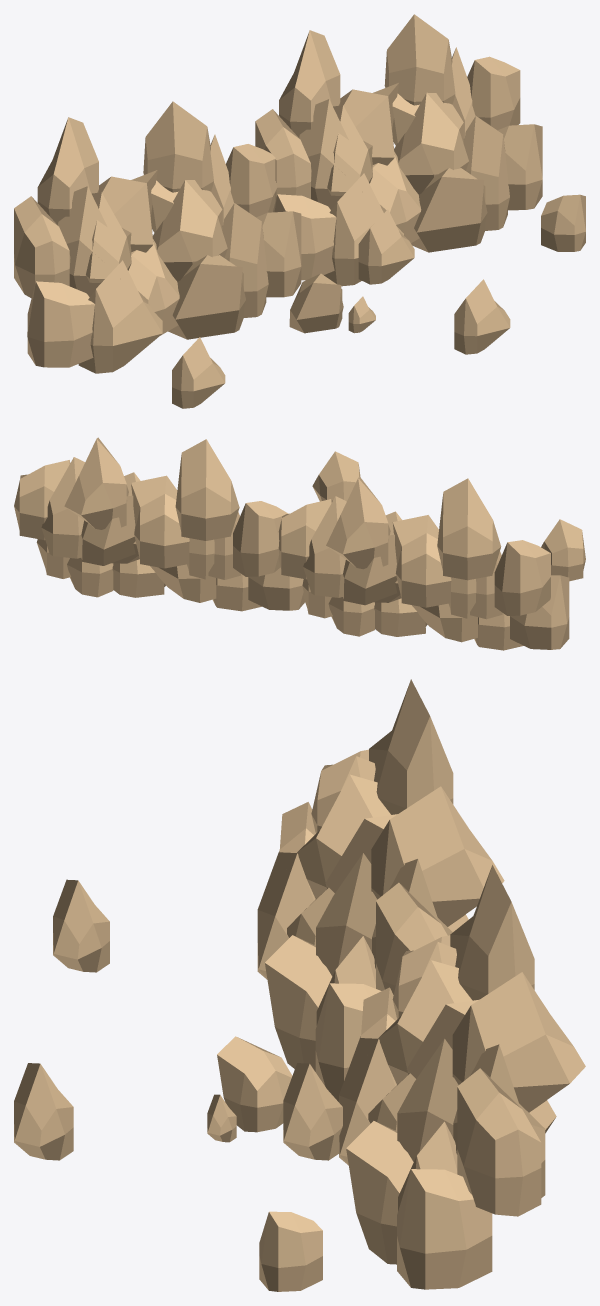
The model's file is Rocks.fbx.
3 views of the same model, one above another, from view 1: azimuth 30°, elevation 25°; view 2: azimuth 150°, elevation 25°; view 3: azimuth 270°, elevation 25° (orthographic). The views are drawn at different scales.
Visible parts, largest first — view 1: polySurface17; view 2: polySurface17; view 3: polySurface17.
Boxes of the visible parts, x1,y1,x2,y2 form: polySurface17: (14, 14, 585, 408); polySurface17: (14, 437, 585, 650); polySurface17: (14, 679, 585, 1291).
Size of the model in its own units: 142 by 54.5 by 89.28.
